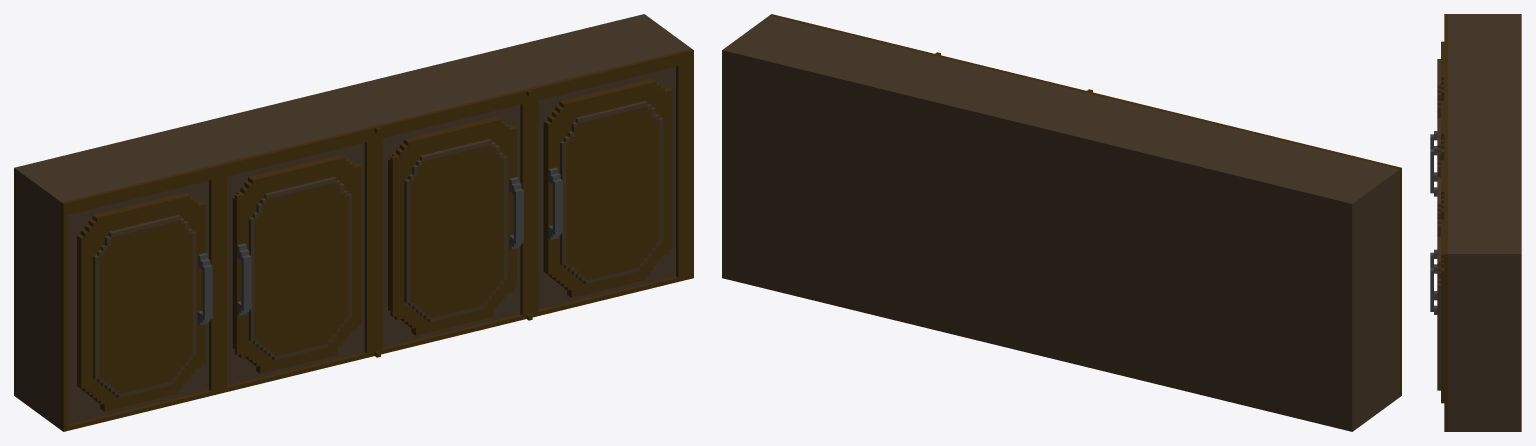
Rendered from Cajoneras.obj.
The picture shows the model from 3 angles, left to right: view 1: azimuth 30°, elevation 25°; view 2: azimuth 150°, elevation 25°; view 3: azimuth 270°, elevation 25°; orthographic projection. The views are drawn at different scales.
Size of the model in its own units: 16.2 by 5.6 by 2.6.
1 material, 1 textured.
